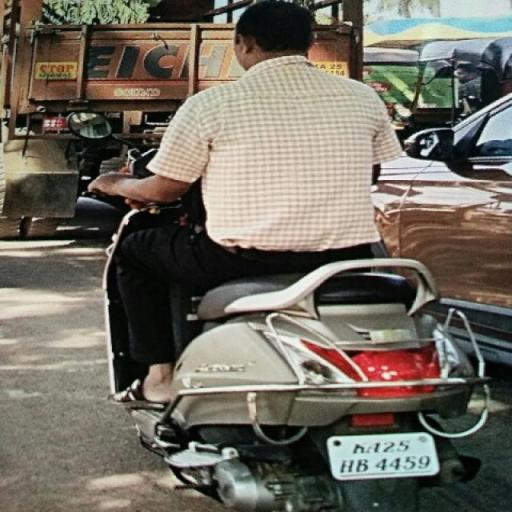bike: (100, 0, 496, 512)
numberplate: (332, 432, 436, 476)
withouthelmet: (239, 1, 312, 64)
